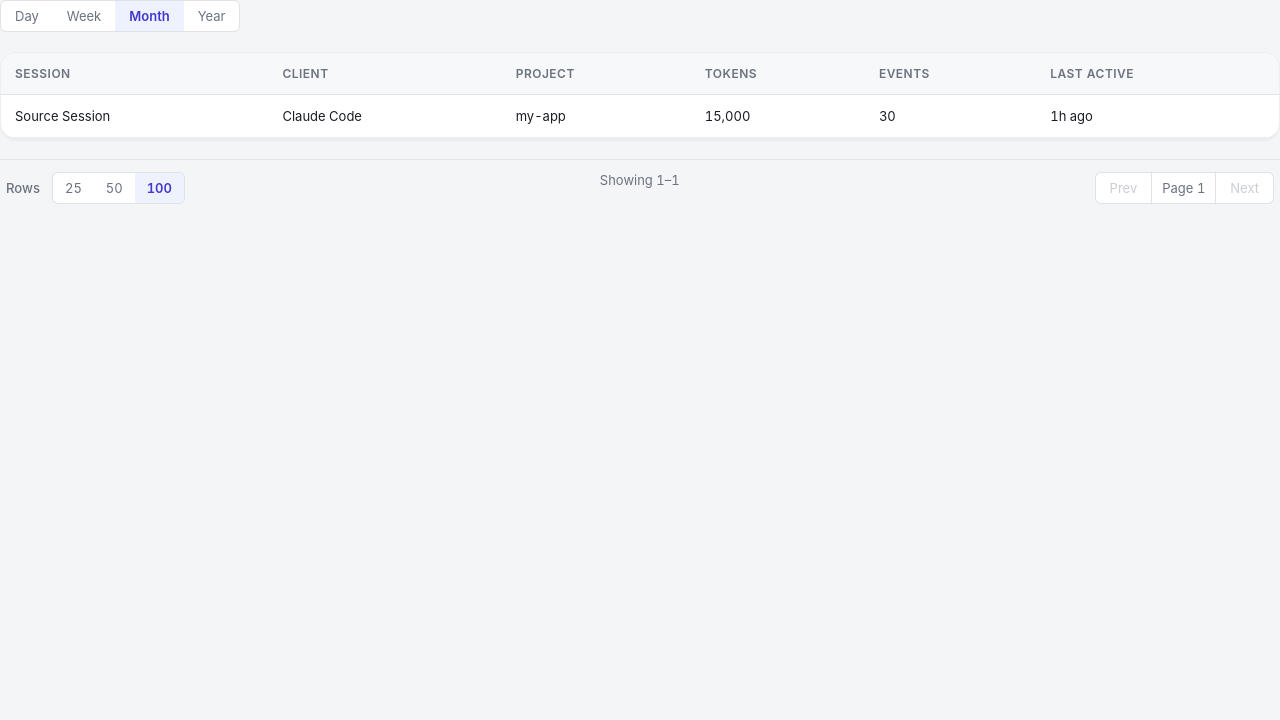
Test case: SessionsPage › displays source context in detail drawer
Click the text "Source Session": coordinates (135, 116) 1,94 -> 268,138
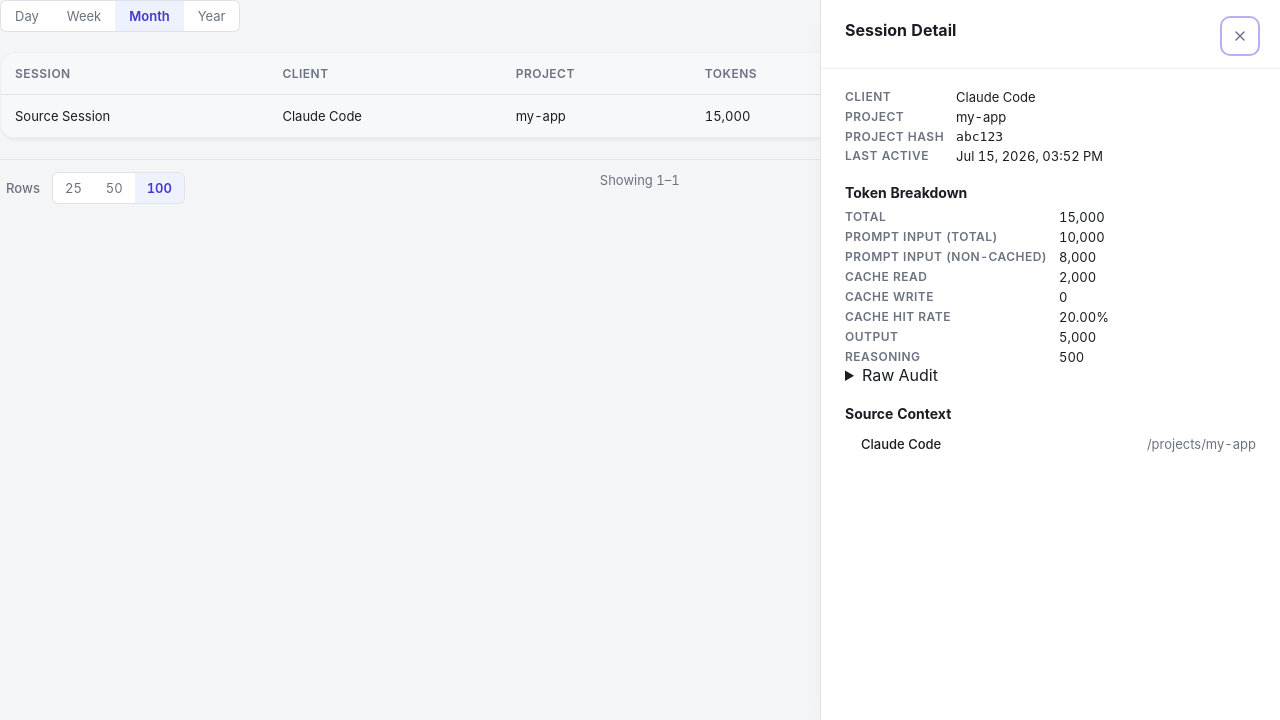
Expected: the heading "Source Context" is shown, 845,405 -> 951,422
Expected: the text "/projects/my-app" is shown, 1147,436 -> 1256,452
